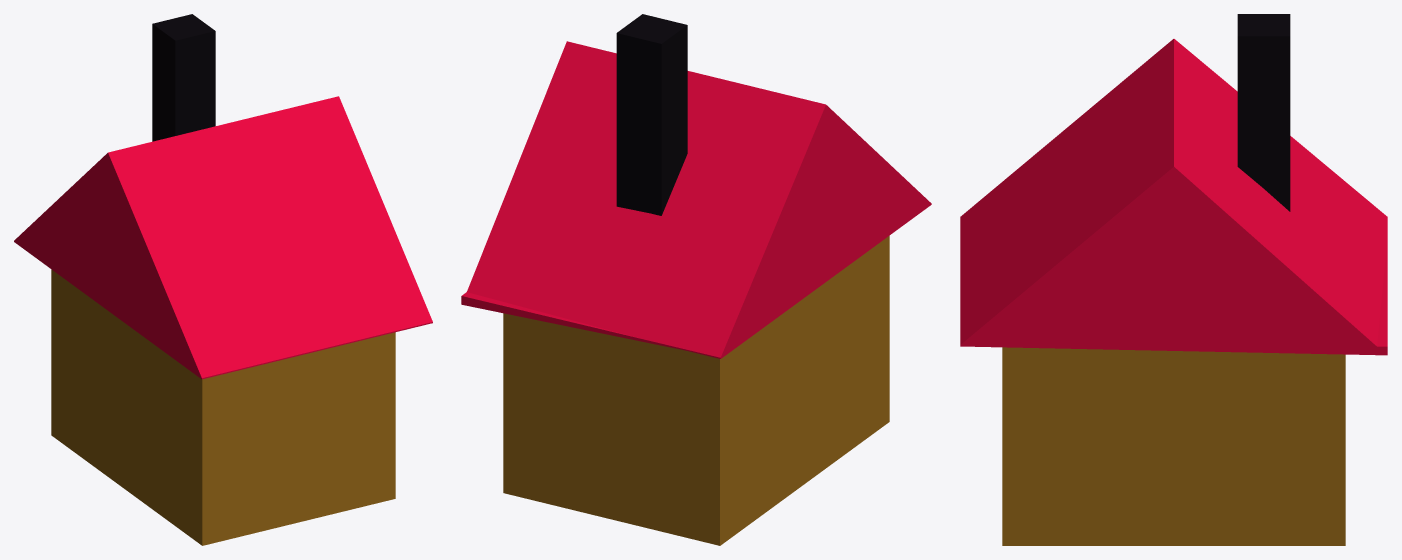
File: house.fbx
The picture shows the model from 3 angles, left to right: view 1: azimuth 30°, elevation 25°; view 2: azimuth 150°, elevation 25°; view 3: azimuth 270°, elevation 25°; orthographic projection. The views are drawn at different scales.
Parts seen in each view (by area): view 1: wall; view 2: wall; view 3: wall.
Boxes of the visible parts, x1,y1,x2,y2 form: wall: (14,14,432,545); wall: (461,14,931,545); wall: (960,14,1387,545).
Size of the model in its own units: 239 by 407 by 337.
